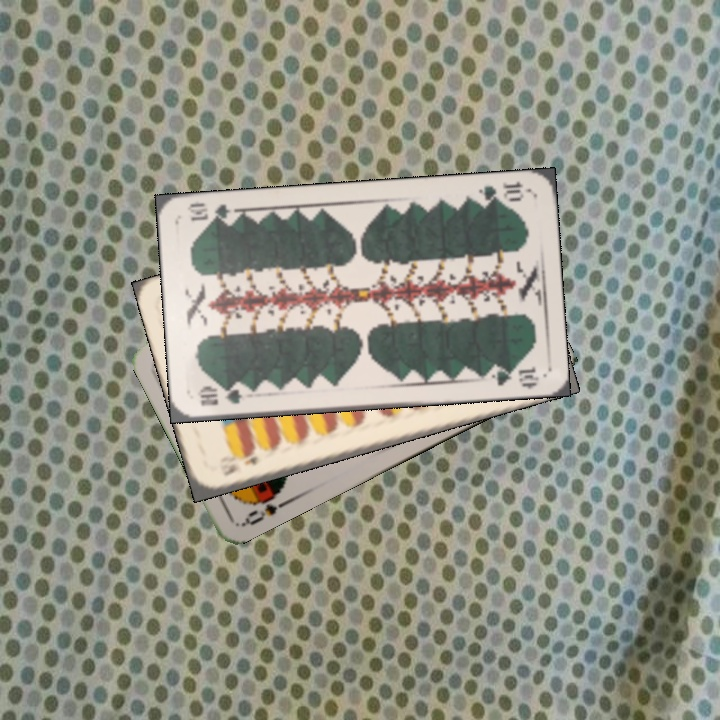E10: (217, 448, 260, 479)
G10: (474, 177, 530, 206), (194, 383, 245, 408)
SO: (239, 483, 294, 528)
